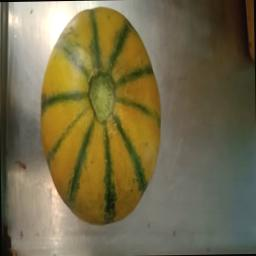Melon Ripe: (28, 6, 176, 232)
